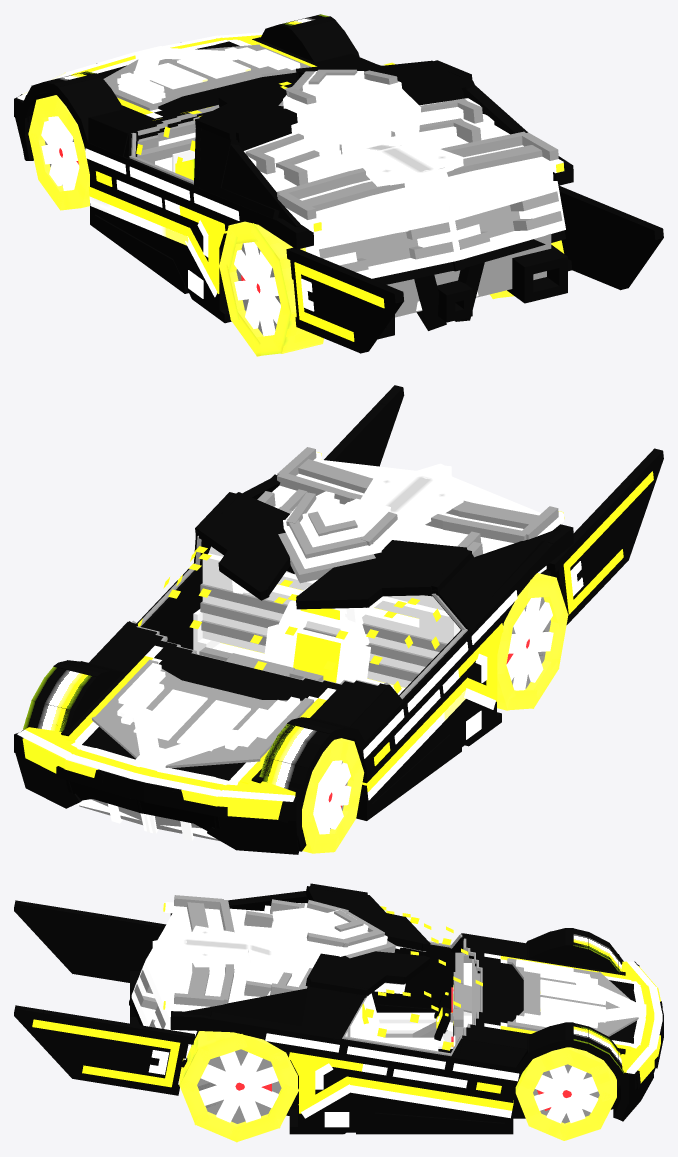
3 renders of one model, top to bottom at view 1: azimuth 30°, elevation 25°; view 2: azimuth 150°, elevation 25°; view 3: azimuth 270°, elevation 25°, orthographic. The views are drawn at different scales.
Visible parts, largest first — view 1: backwheels_main_684, part2_394, front_left_744, part1_154, part2_395, part2_369, part2_371, part2_362, part2_444, part1_23, part1_43, part2_445 (+86 smaller); view 2: int_550, backwheels_main_684, part2_285, front_left_744, part1_154, part2_213, part2_444, part1_23, part1_60, part2_369, part2_212, int_553 (+68 smaller); view 3: backwheels_main_684, part1_4, front_right_714, part2_369, part1_5, part1_154, part2_285, part2_445, part2_444, part2_395, part1_174, part2_452 (+103 smaller).
Part boxes in pixels (x1,y1,x2,y2): backwheels_main_684: (219,221,514,356); part2_394: (313,186,443,239); front_left_744: (28,95,89,210); part1_154: (92,163,214,274); part2_395: (448,146,553,210); part2_369: (270,126,544,213); part2_371: (387,233,551,317); part2_362: (285,80,401,151); part2_444: (286,247,403,303); part1_23: (85,142,281,229); part1_43: (227,144,300,227); part2_445: (558,185,663,239); int_550: (202,575,457,687); backwheels_main_684: (497,573,568,710); part2_285: (99,653,302,776); front_left_744: (302,738,364,853); part1_154: (369,661,486,804); part2_213: (345,545,448,593); part2_444: (546,448,663,572); part1_23: (362,542,555,748); part1_60: (224,815,298,847); part2_369: (272,472,523,553); part2_212: (198,509,285,550); int_553: (200,583,447,652); backwheels_main_684: (179,1031,298,1142); part1_4: (306,1054,511,1122); front_right_714: (515,1047,616,1140); part2_369: (182,906,276,1002); part1_5: (201,1015,520,1072); part1_154: (371,955,455,1009); part2_285: (482,967,636,1036); part2_445: (14,1005,194,1044); part2_444: (14,900,166,934); part2_395: (151,953,233,1001); part1_174: (347,1076,513,1110); part2_452: (74,940,144,978).
Bounding box in the file's own units: 2.03 × 1.41 × 4.91.
1 material, 1 textured.
